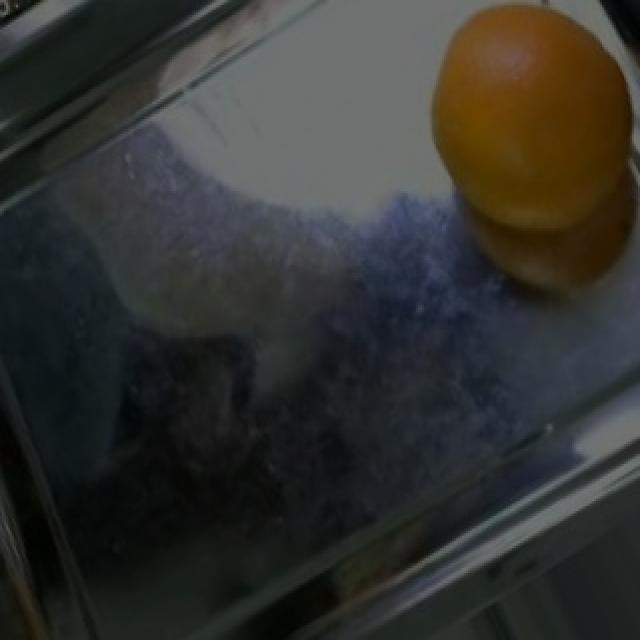Fruit: (406, 0, 640, 260)
